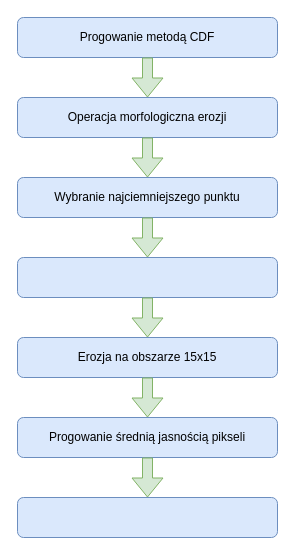
Image size: 295x555. Some labels were removed from this diagram. The box of each missing label's shape, as (x1, y1, x2, y2) in pixels:
Obliczenie średniej jasności pikseli 10x10: (16, 256, 278, 298)
Wyznaczyć środek ciężkości: (16, 496, 278, 538)
